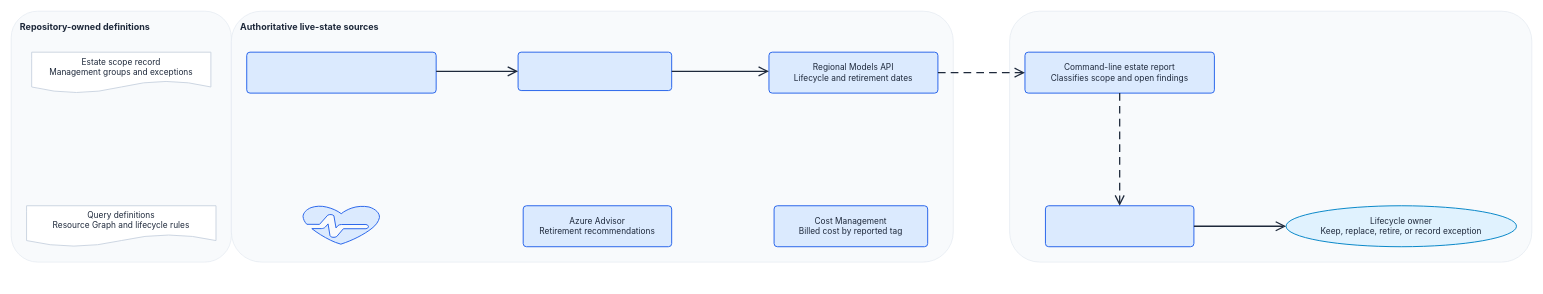
The diagram is 1543 pixels wide and 294 high, and some of its shapes have lost their labels. Each missing label, with the box of its shape:
Azure Resource Graph Accounts at management-group scope: (246, 51, 436, 93)
Azure Service Health Retirement advisories: (302, 205, 380, 244)
Operator views and handoff: (1009, 11, 1532, 262)
Per-account deployment read: (517, 51, 672, 91)
Shared Azure Workbook Uses the same live sources: (1045, 205, 1194, 247)
